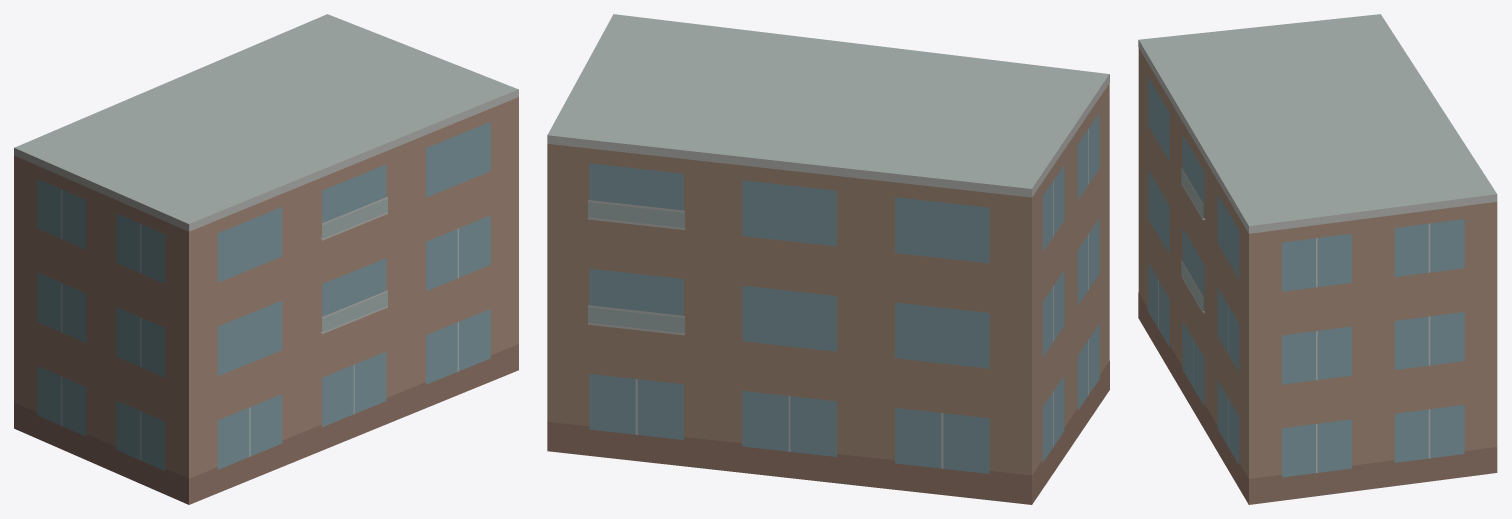
Rendered from survey-upis-32664984.glb.
3 views of the same model, side by side, from view 1: azimuth 30°, elevation 25°; view 2: azimuth 150°, elevation 25°; view 3: azimuth 270°, elevation 25° (orthographic). The views are drawn at different scales.
Parts seen in each view (by area): view 1: survey-upis-32664984.tmp; view 2: survey-upis-32664984.tmp; view 3: survey-upis-32664984.tmp.
Part boxes in pixels (bbox=[...]): survey-upis-32664984.tmp: bbox=[14, 14, 518, 504]; survey-upis-32664984.tmp: bbox=[547, 14, 1109, 504]; survey-upis-32664984.tmp: bbox=[1138, 14, 1497, 504].
Size of the model in its own units: 14.72 by 9 by 10.51.
